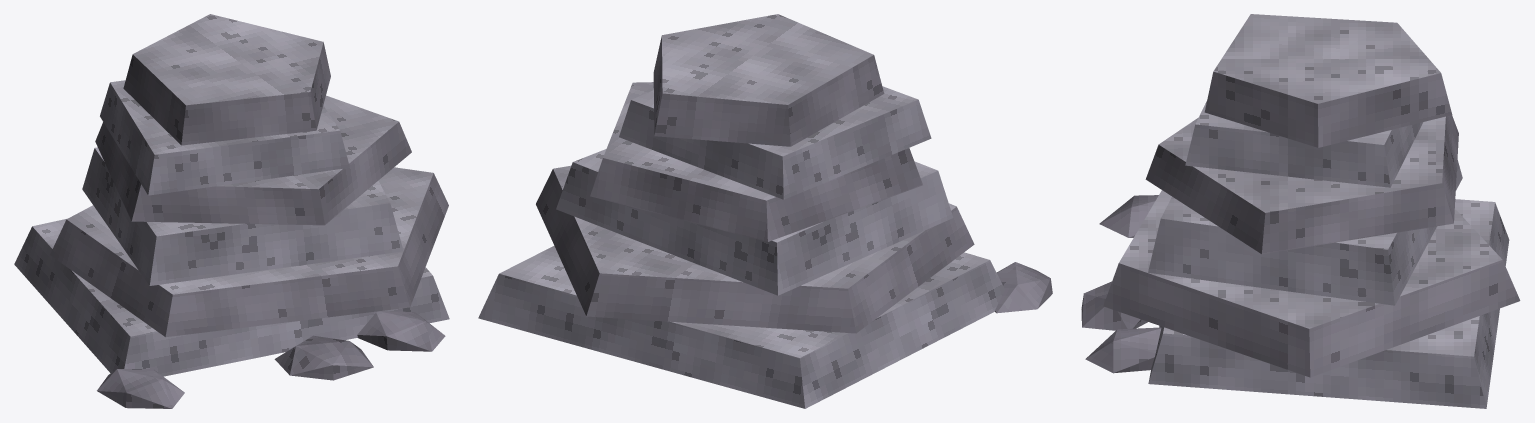
Rendered from map11-obj03.glb.
3 renders of one model, left to right at view 1: azimuth 30°, elevation 25°; view 2: azimuth 150°, elevation 25°; view 3: azimuth 270°, elevation 25°, orthographic. The views are drawn at different scales.
Parts seen in each view (by area): view 1: map11_obj032; view 2: map11_obj032; view 3: map11_obj032.
Boxes of the visible parts, x1,y1,x2,y2 form: map11_obj032: (14, 14, 449, 408); map11_obj032: (478, 14, 1052, 408); map11_obj032: (1081, 14, 1520, 408).
Bounding box in the file's own units: 1.16 × 0.64 × 0.98.
3 materials, 3 textured.
